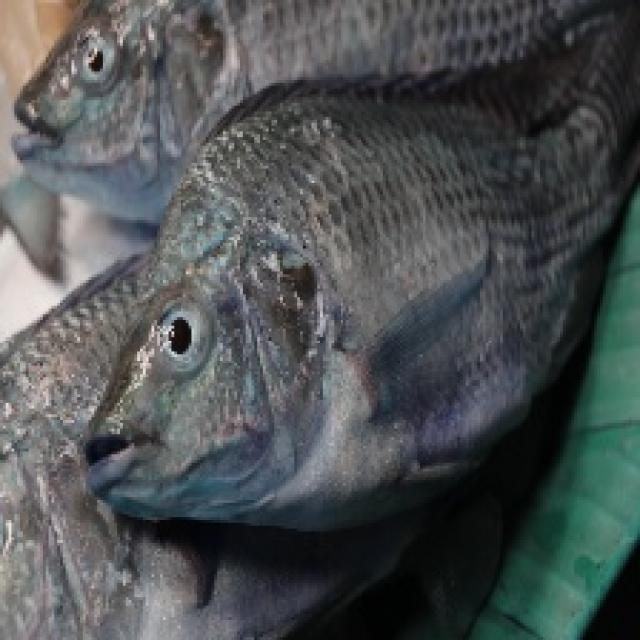Fresh: (196, 71, 560, 525), (149, 293, 227, 380), (65, 24, 127, 96)
